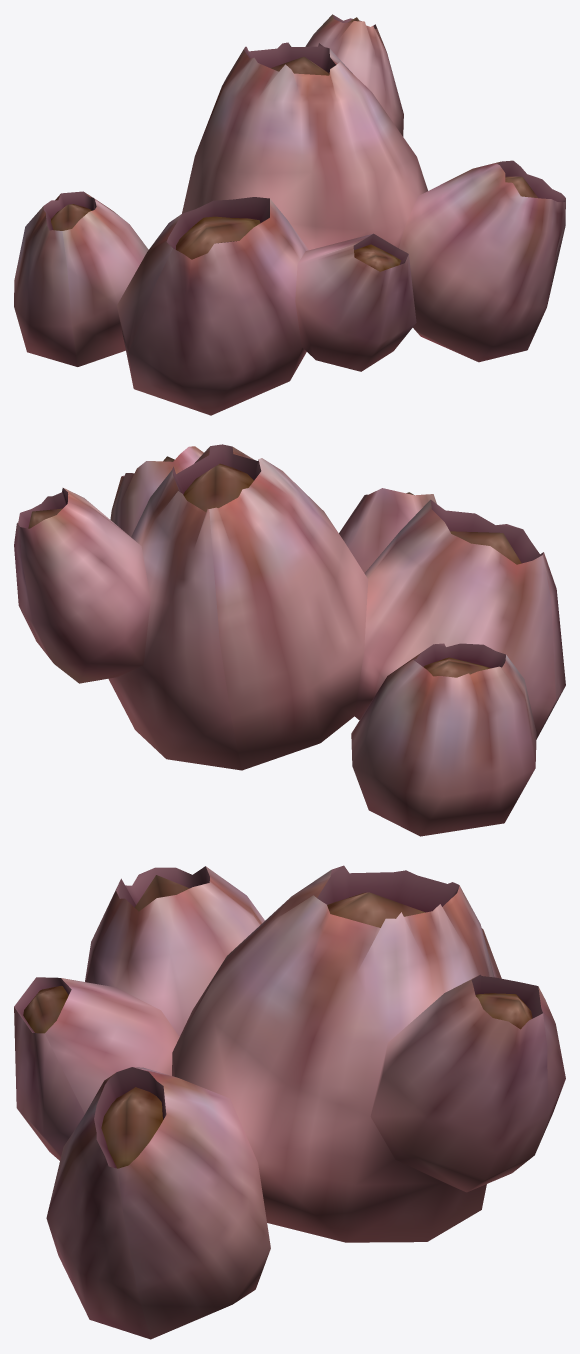
File: acorn-barnacle.glb
3 views of the same model, one above another, from view 1: azimuth 30°, elevation 25°; view 2: azimuth 150°, elevation 25°; view 3: azimuth 270°, elevation 25° (orthographic). The views are drawn at different scales.
Bounding box in the file's own units: 3.55 × 1.99 × 2.73.
Materials: 1 (1 with a texture image).
